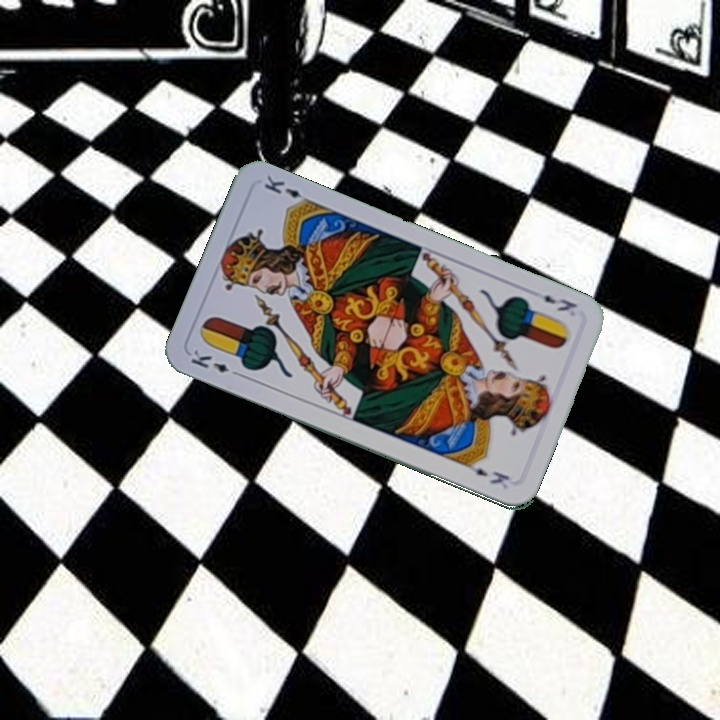EK: (186, 345, 244, 379), (539, 291, 580, 314)
